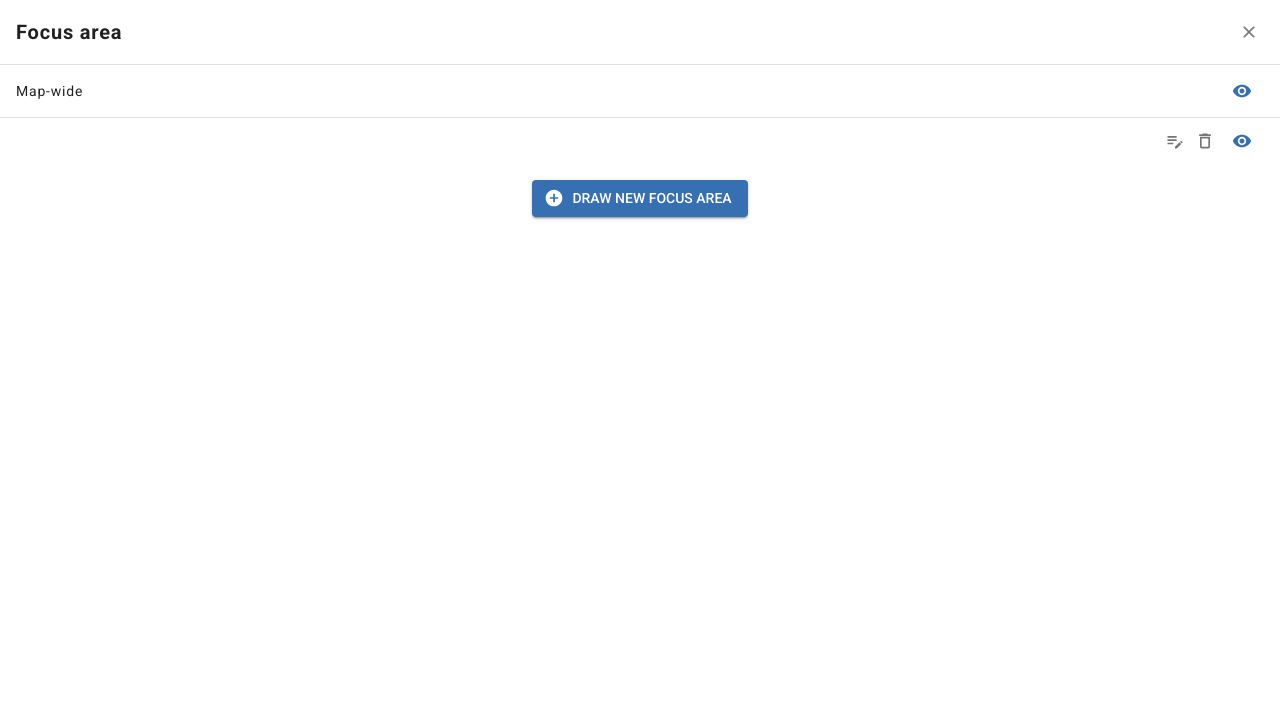
it: FocusAreaView › Delete Confirmation Dialog › shows fallback name for unnamed focus area
The width and height of the screenshot is (1280, 720).
Click the button named "Delete focus area" at x=1205, y=141, box 1190,126 -> 1220,156
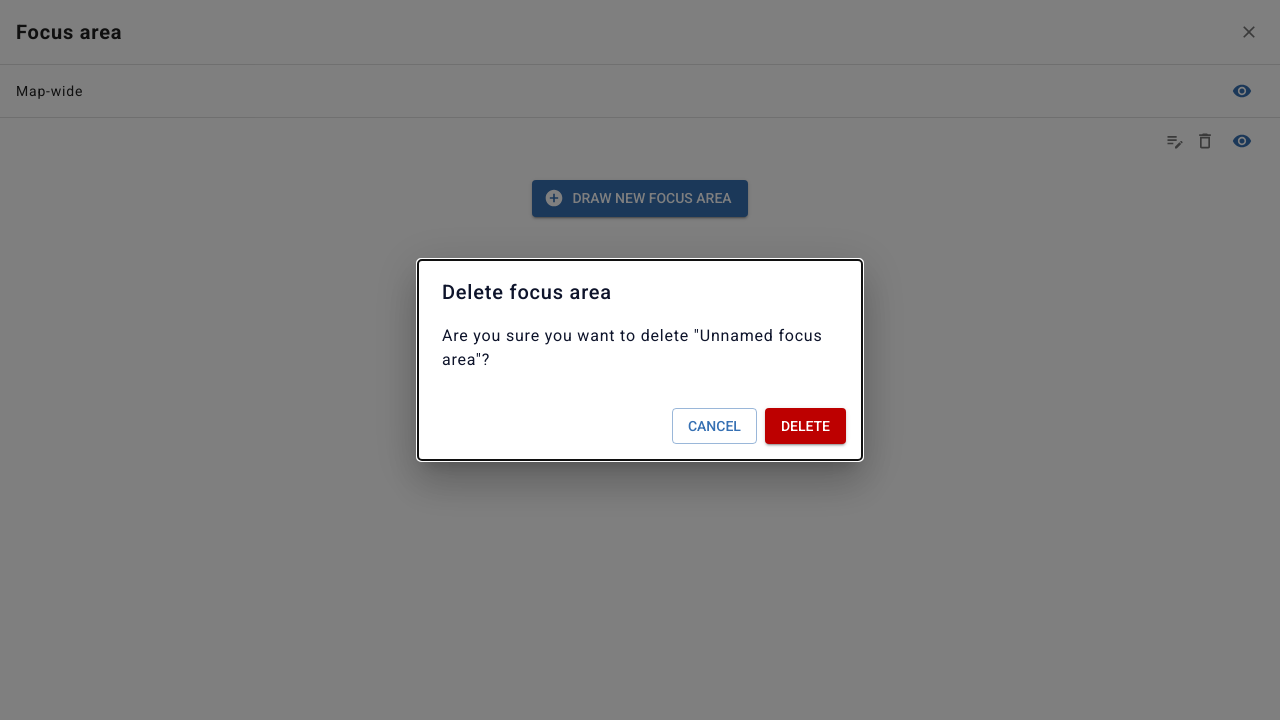
Now the text "Are you sure you want to delete \"Unnamed focus area\"?" is shown, box 442,324 -> 838,372
